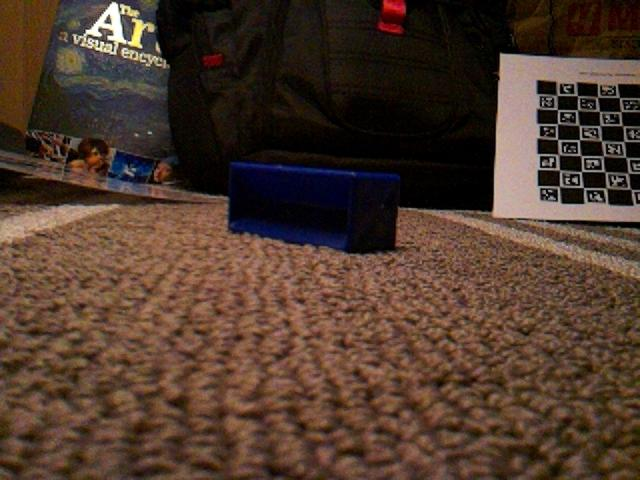blue: (225, 159, 402, 255)
